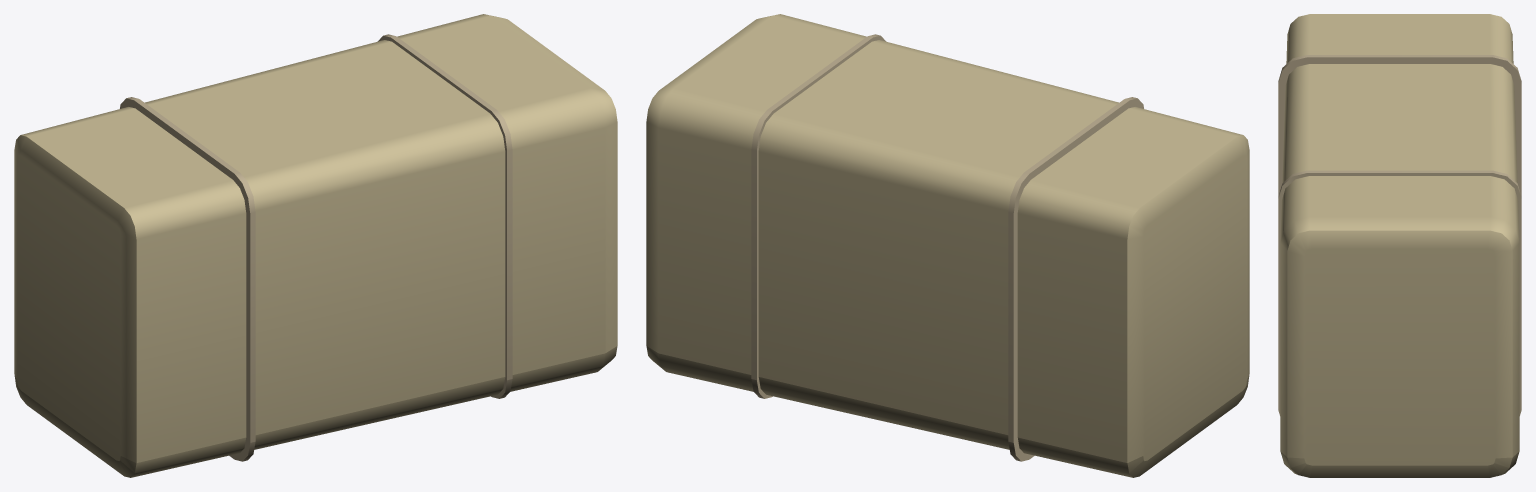
Rendered from hay_bale.glb.
3 renders of one model, left to right at view 1: azimuth 30°, elevation 25°; view 2: azimuth 150°, elevation 25°; view 3: azimuth 270°, elevation 25°, orthographic. The views are drawn at different scales.
Visible parts, largest first — view 1: static; view 2: static; view 3: static.
Boxes of the visible parts, <box> form: static: <box>14,14,617,477</box>; static: <box>646,14,1249,477</box>; static: <box>1278,14,1521,477</box>.
Size of the model in its own units: 1.1 by 0.608 by 0.508.
